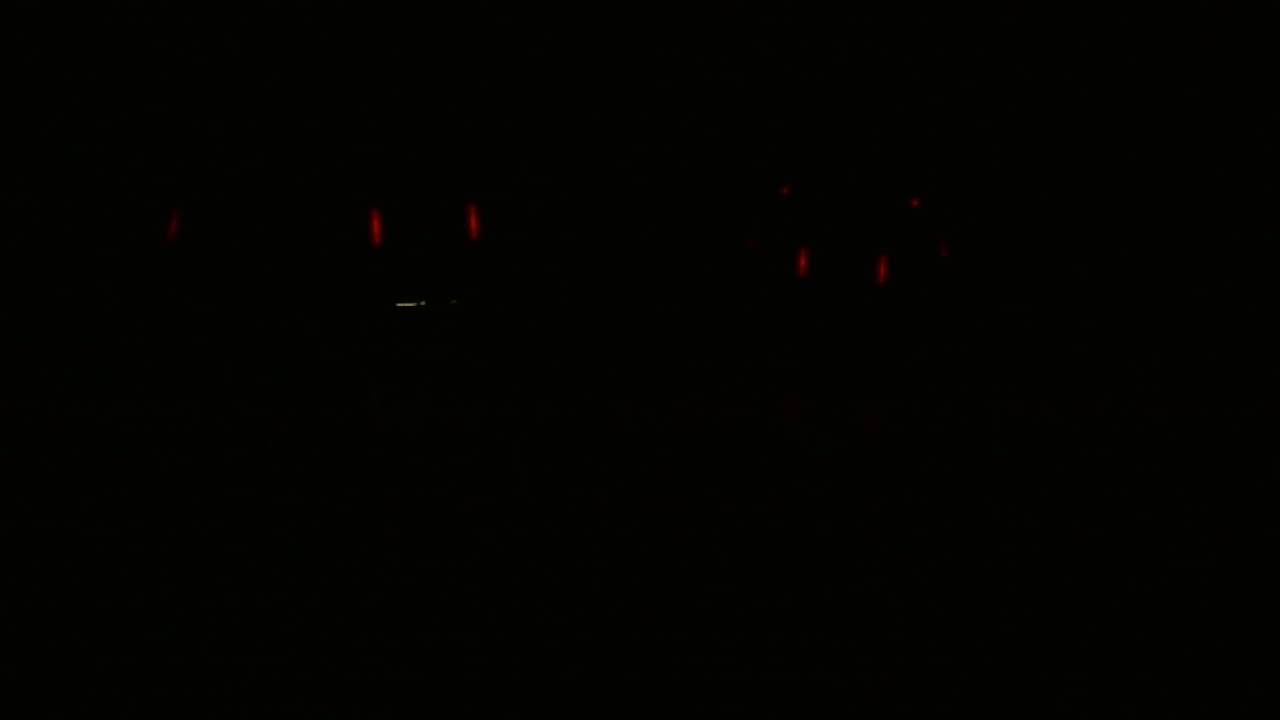pair1: (361, 197, 486, 252)
pair2: (787, 237, 904, 294)
